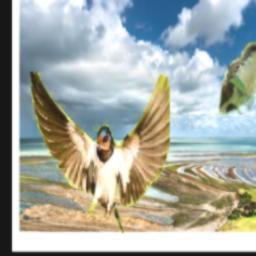Cuckoo: (219, 41, 256, 116)
Swallow: (28, 73, 170, 234)
